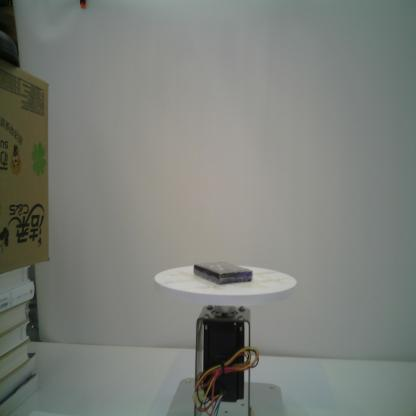Gum: (192, 260, 254, 287)
